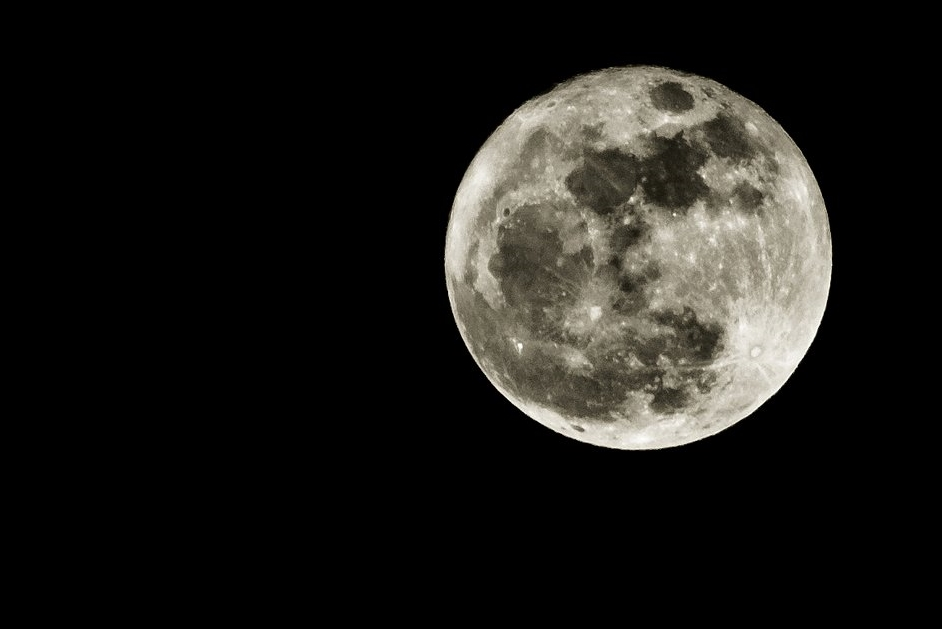crater: (634, 77, 699, 120), (734, 334, 775, 370), (576, 298, 609, 329), (564, 416, 592, 436), (509, 334, 530, 355), (497, 202, 516, 225), (542, 99, 561, 116), (644, 205, 656, 218)
